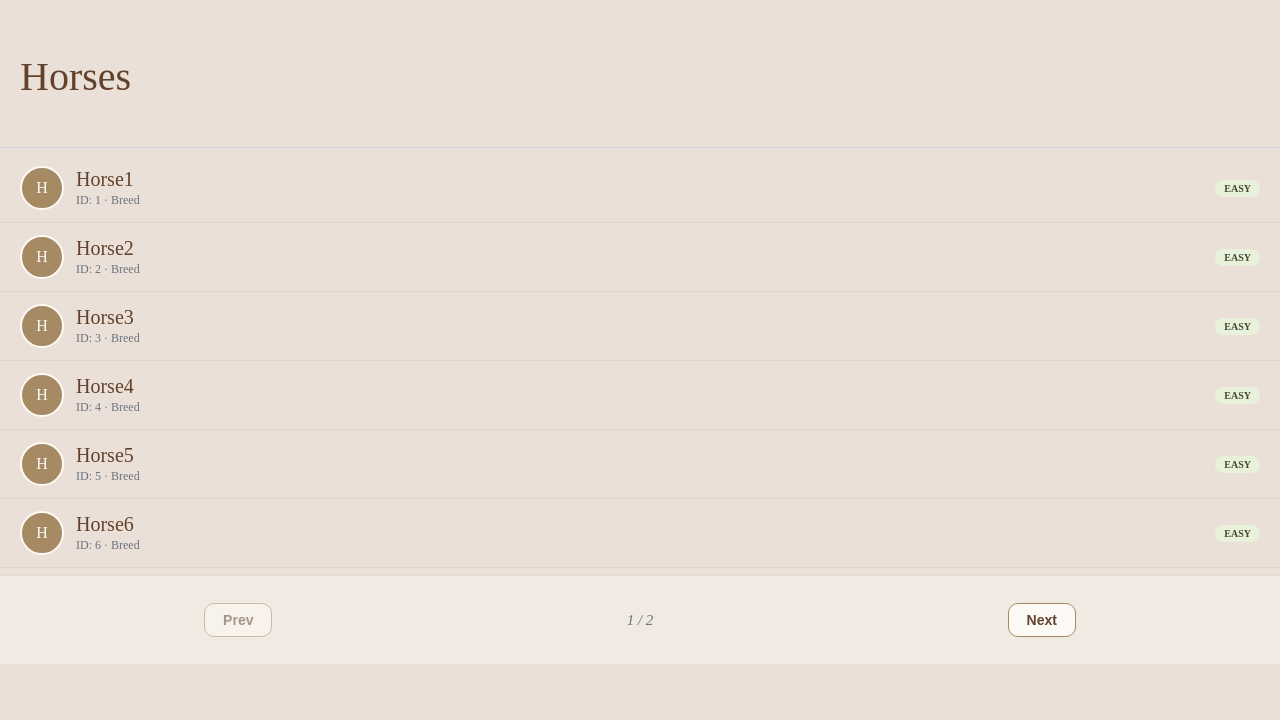
Test: HorseTable › navigates to page 2 and shows Horse7 after clicking "Next"
Click the button "Next": click(1042, 620) [1008,603,1076,637]
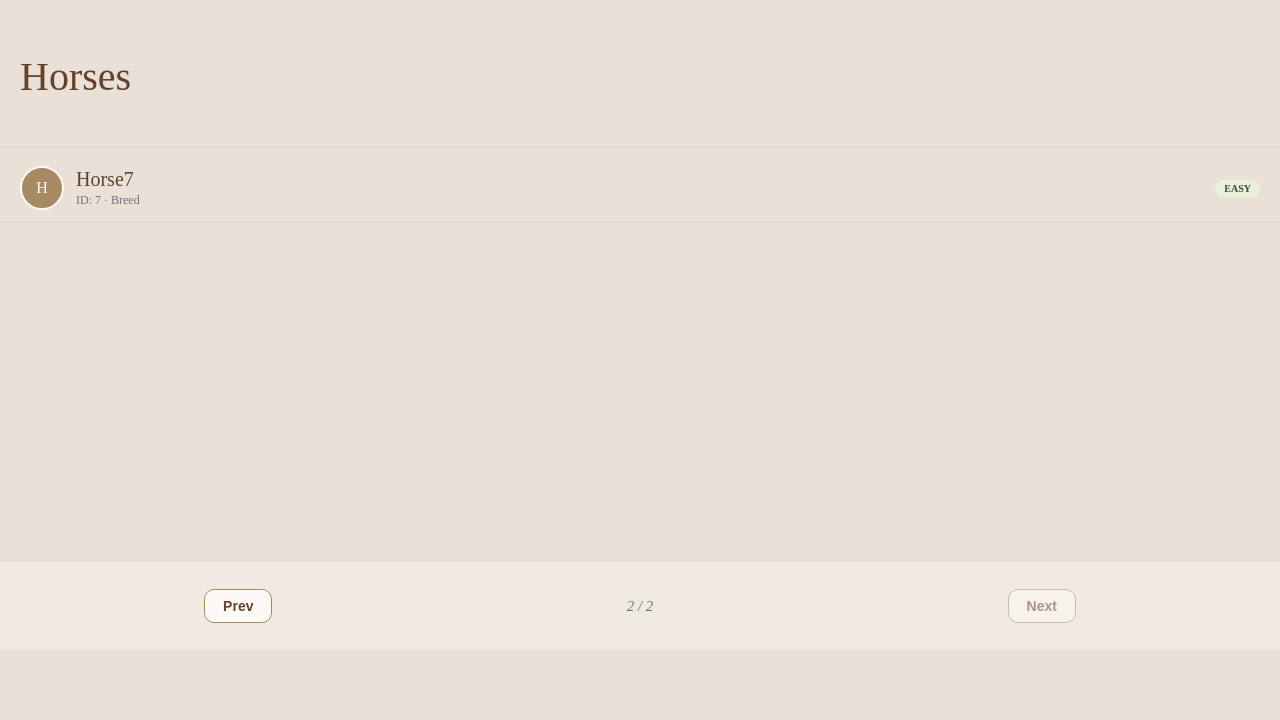
Check: the text "Horse7" is shown, box [76,168,134,190]
Check: the text "Horse1" is gone
